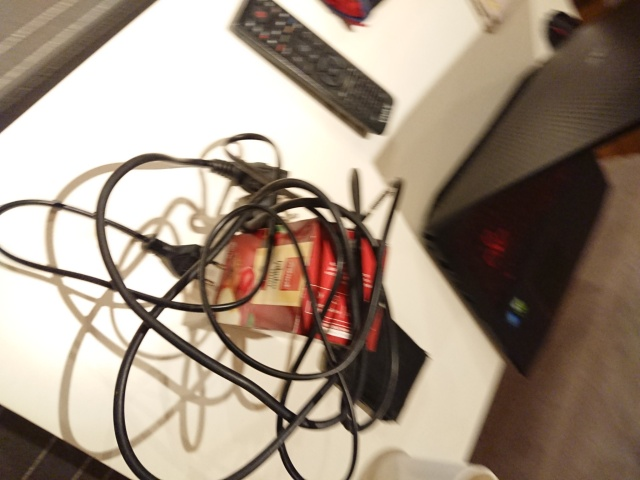Franck Apple Cinnamon Tea 60g: (206, 215, 391, 356)
